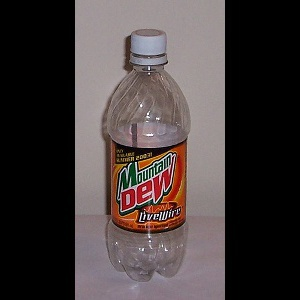emptybottle: (105, 28, 189, 280)
